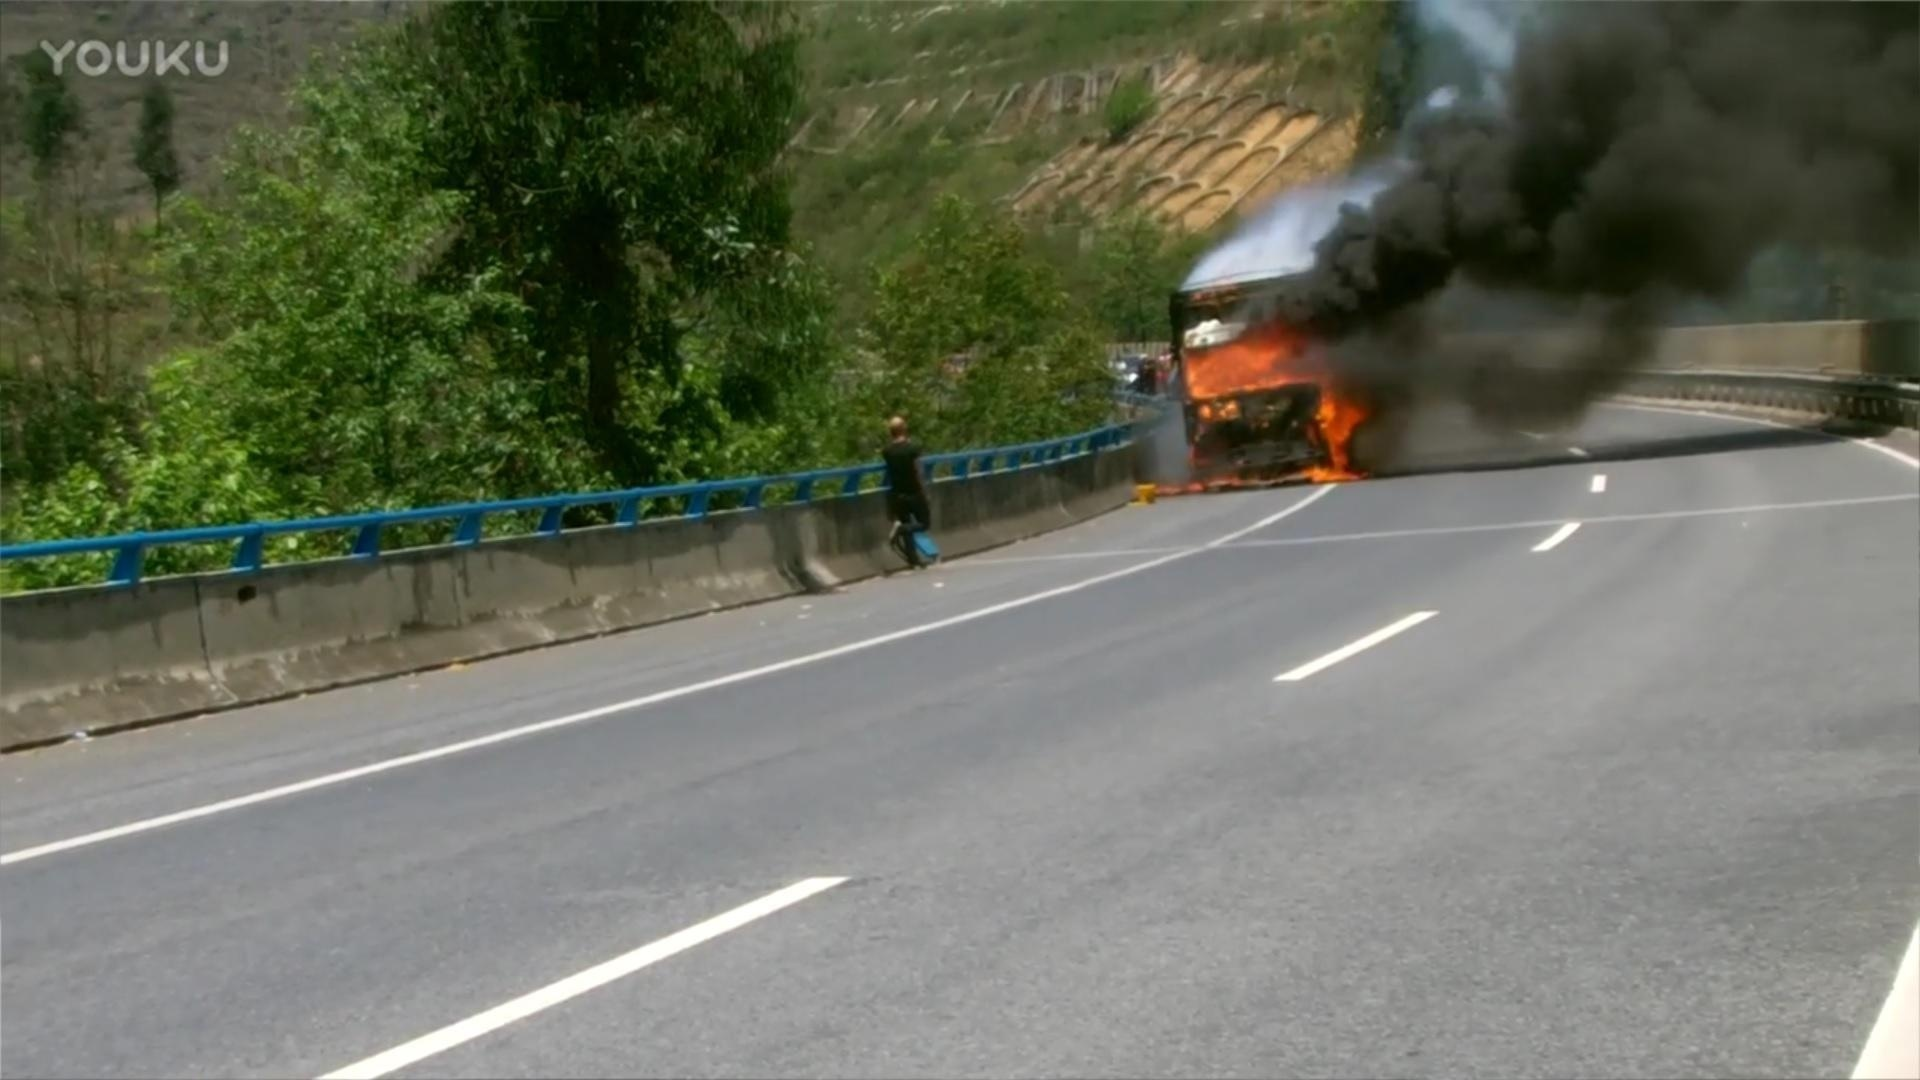fire: (1153, 332, 1365, 491)
